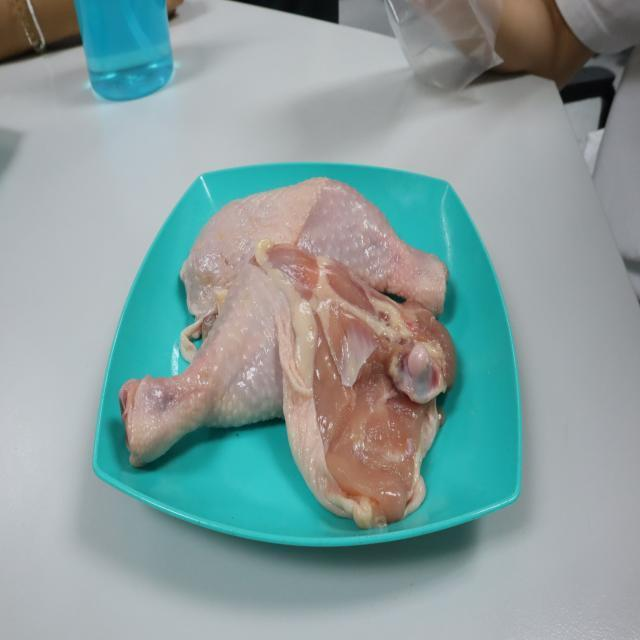quater: (108, 244, 446, 524), (182, 170, 456, 312)
